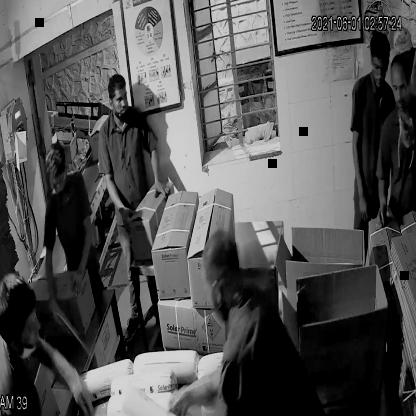no_goggles: (389, 78, 412, 103), (108, 91, 130, 108)
